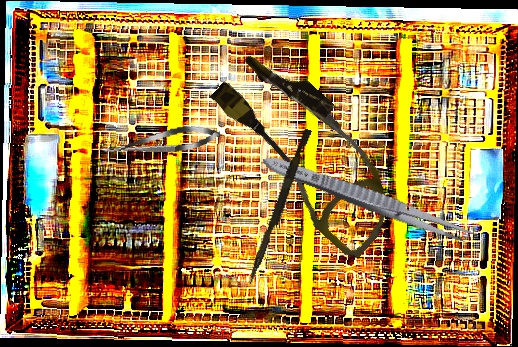Cannula: (192, 39, 424, 263)
Dressing Forceps: (258, 149, 481, 250)
Micro Scissor: (97, 121, 223, 163)
Pusher: (246, 127, 313, 287)
